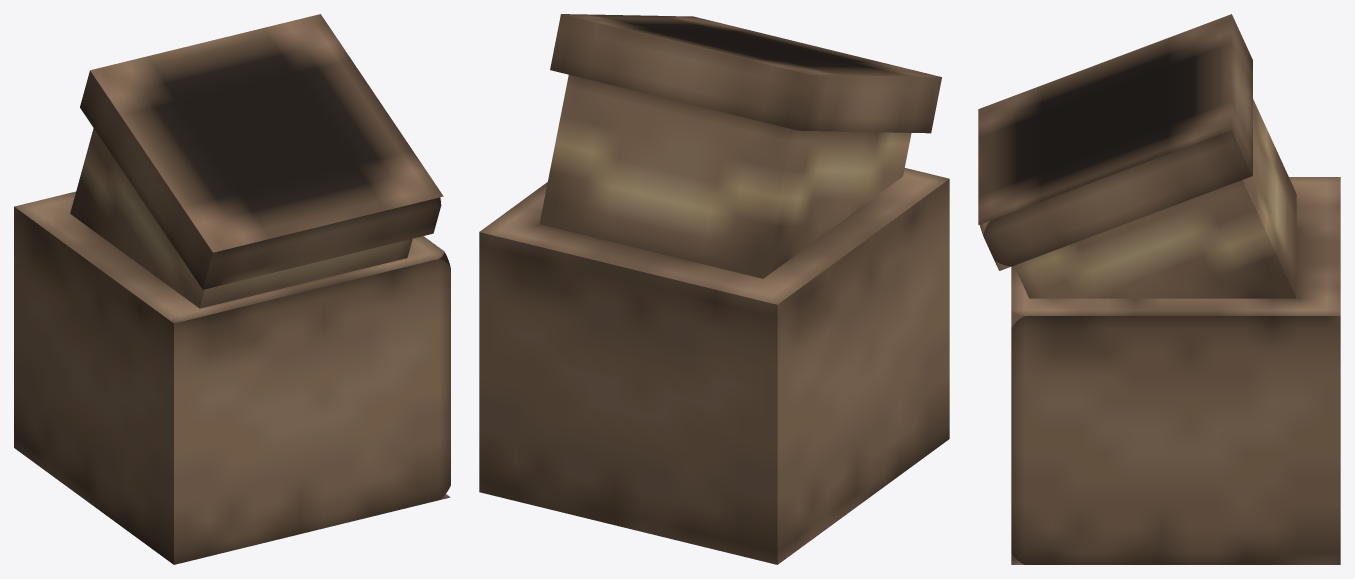
The model's file is medieval_market_bag.fbx.
3 renders of one model, left to right at view 1: azimuth 30°, elevation 25°; view 2: azimuth 150°, elevation 25°; view 3: azimuth 270°, elevation 25°, orthographic. The views are drawn at different scales.
Visible parts, largest first — view 1: bag; view 2: bag; view 3: bag.
Boxes of the visible parts, left/top/right/bottom form: bag: left=14, top=14, right=450, bottom=564; bag: left=479, top=14, right=949, bottom=564; bag: left=978, top=14, right=1340, bottom=564.
Size of the model in its own units: 75 by 106 by 82.52.
1 material, 1 textured.
